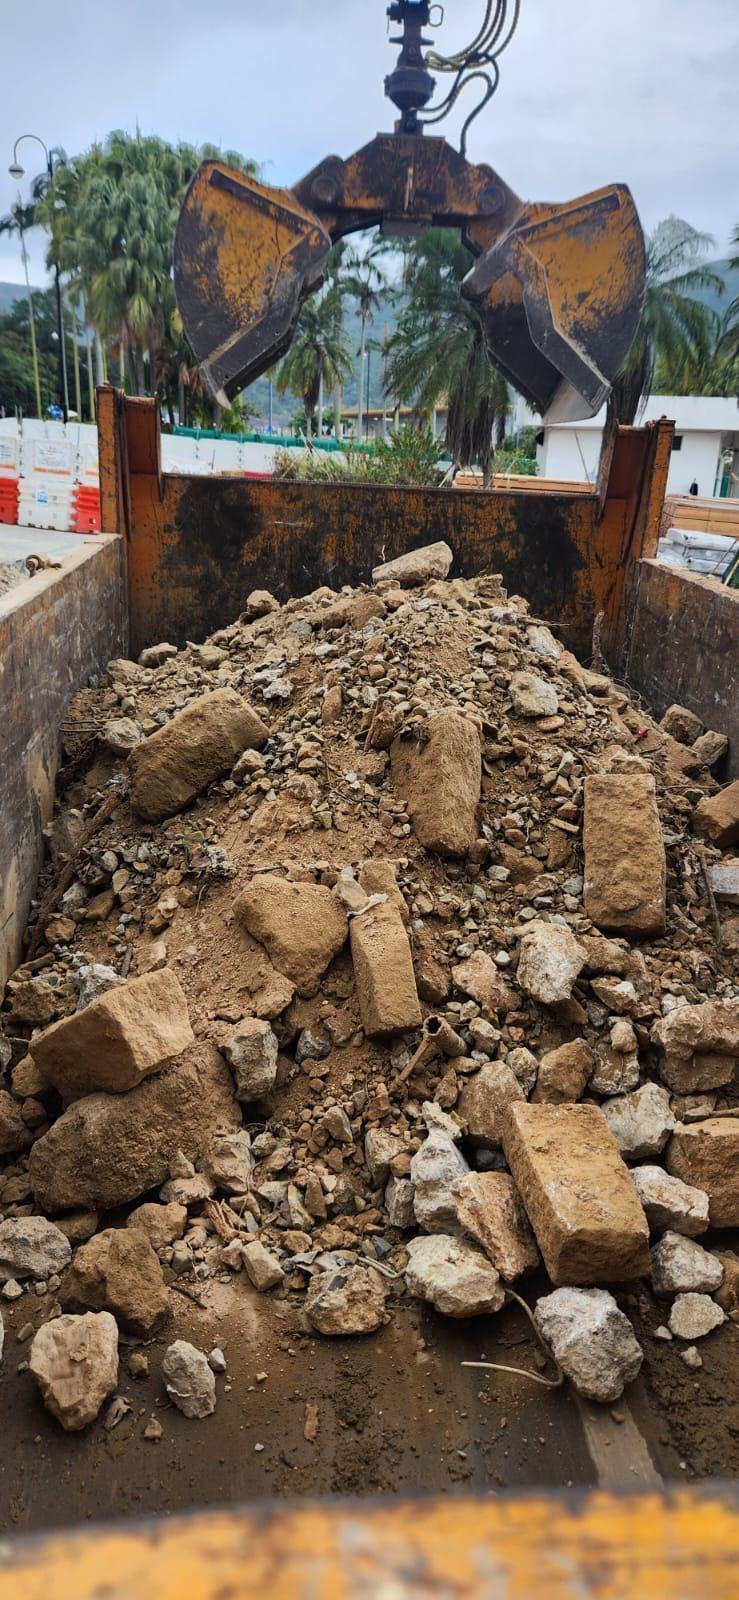dirt: (2, 553, 737, 1535)
stone: (26, 1038, 245, 1214), (500, 1099, 653, 1286), (27, 966, 196, 1098), (125, 685, 270, 822), (231, 871, 349, 997), (388, 706, 483, 857), (580, 771, 667, 935), (531, 1285, 644, 1404), (58, 1225, 173, 1337), (27, 1309, 119, 1432), (348, 897, 424, 1039), (449, 1168, 540, 1281), (402, 1232, 505, 1318), (649, 996, 737, 1094), (665, 1114, 738, 1229), (302, 1260, 388, 1335), (514, 920, 587, 1005), (219, 1016, 279, 1101), (0, 1213, 71, 1282), (160, 1338, 217, 1418), (370, 539, 453, 584), (507, 669, 558, 717)
